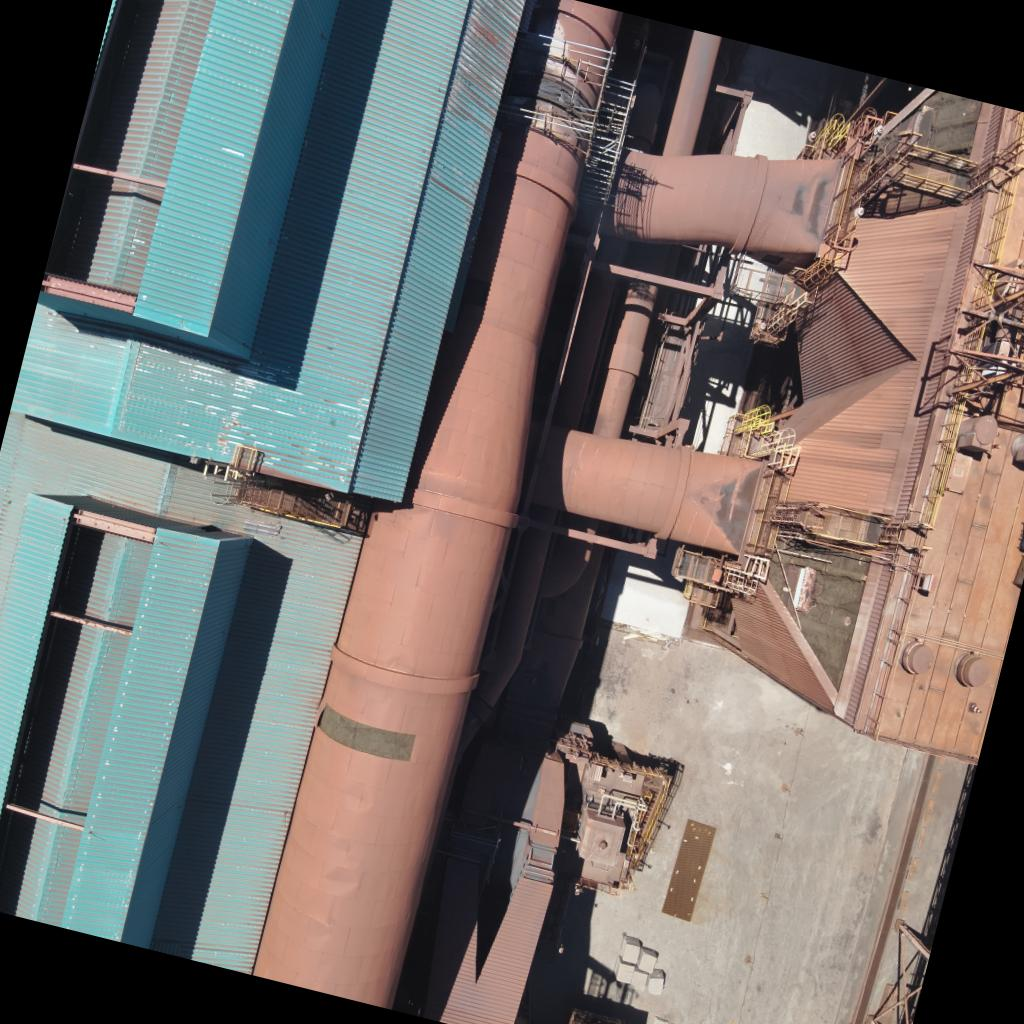Failures: (732, 527, 882, 701), (871, 82, 993, 191), (304, 701, 424, 768)
